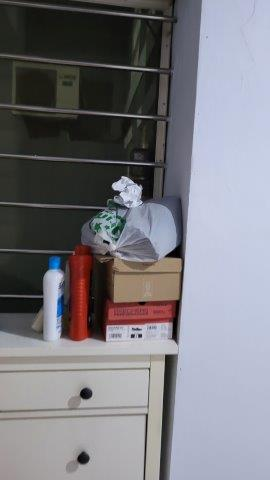kertas: (110, 175, 144, 208)
plastik: (89, 207, 181, 262)
